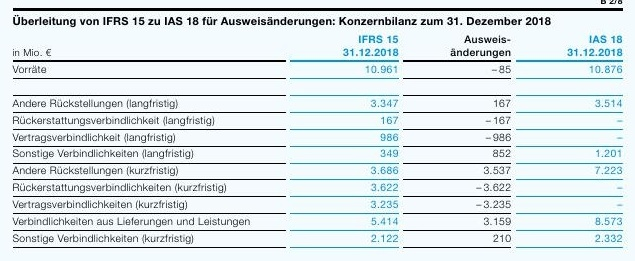table: (0, 0, 635, 261)
